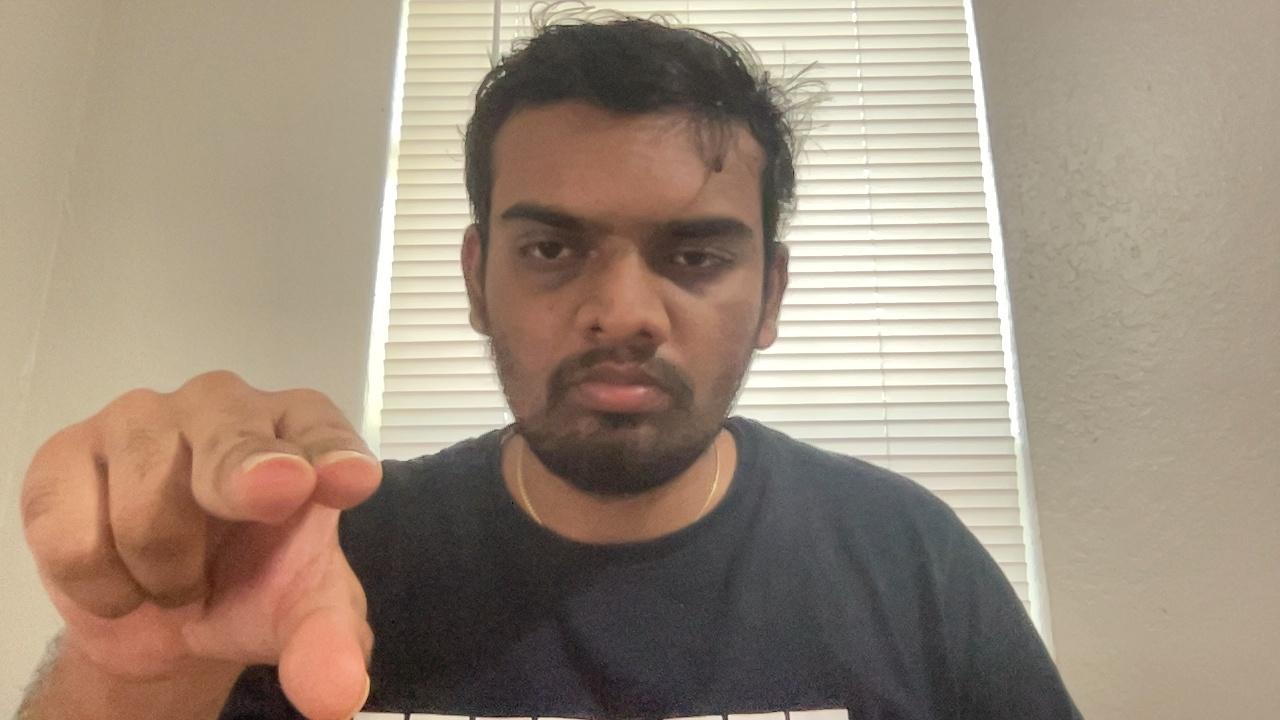no: (15, 361, 383, 718)
